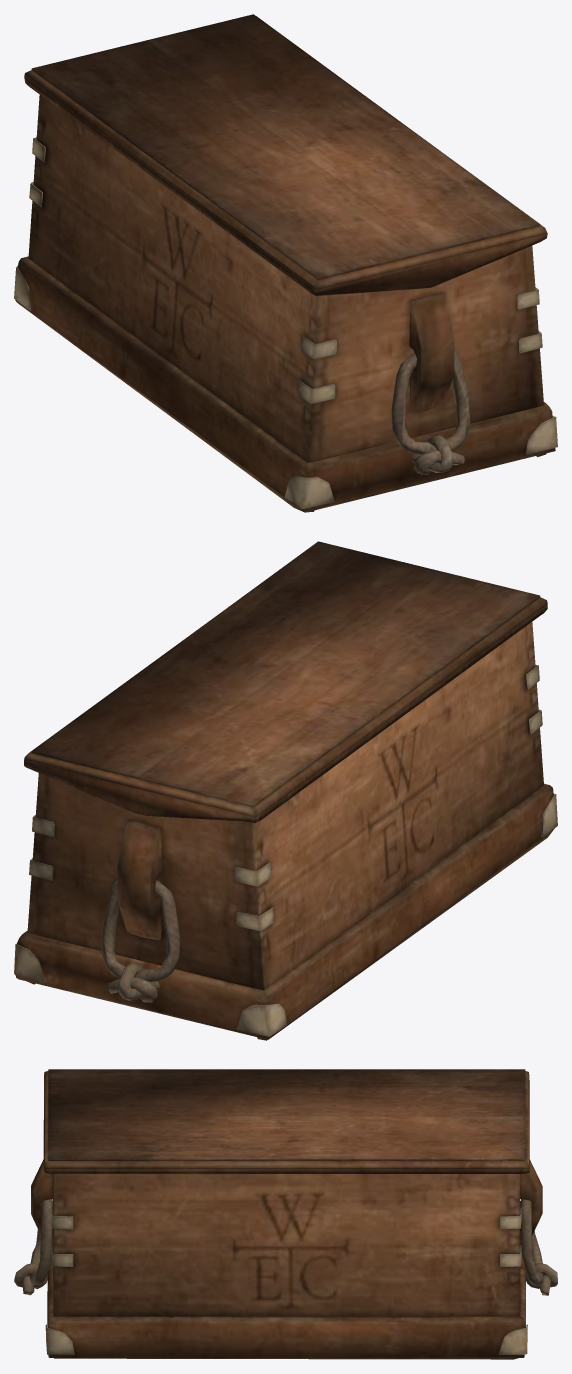
Rendered from wooden_crate_02.glb.
3 renders of one model, top to bottom at view 1: azimuth 30°, elevation 25°; view 2: azimuth 150°, elevation 25°; view 3: azimuth 270°, elevation 25°, orthographic. The views are drawn at different scales.
Parts seen in each view (by area): view 1: wooden_crate_02_crate; view 2: wooden_crate_02_crate; view 3: wooden_crate_02_crate.
Part boxes in pixels (x1=…): wooden_crate_02_crate: x1=14, y1=14, x2=557, y2=512; wooden_crate_02_crate: x1=14, y1=541, x2=557, y2=1040; wooden_crate_02_crate: x1=14, y1=1069, x2=557, y2=1359.
Size of the model in its own units: 0.5291 by 0.464 by 1.16.
1 material, 1 textured.
